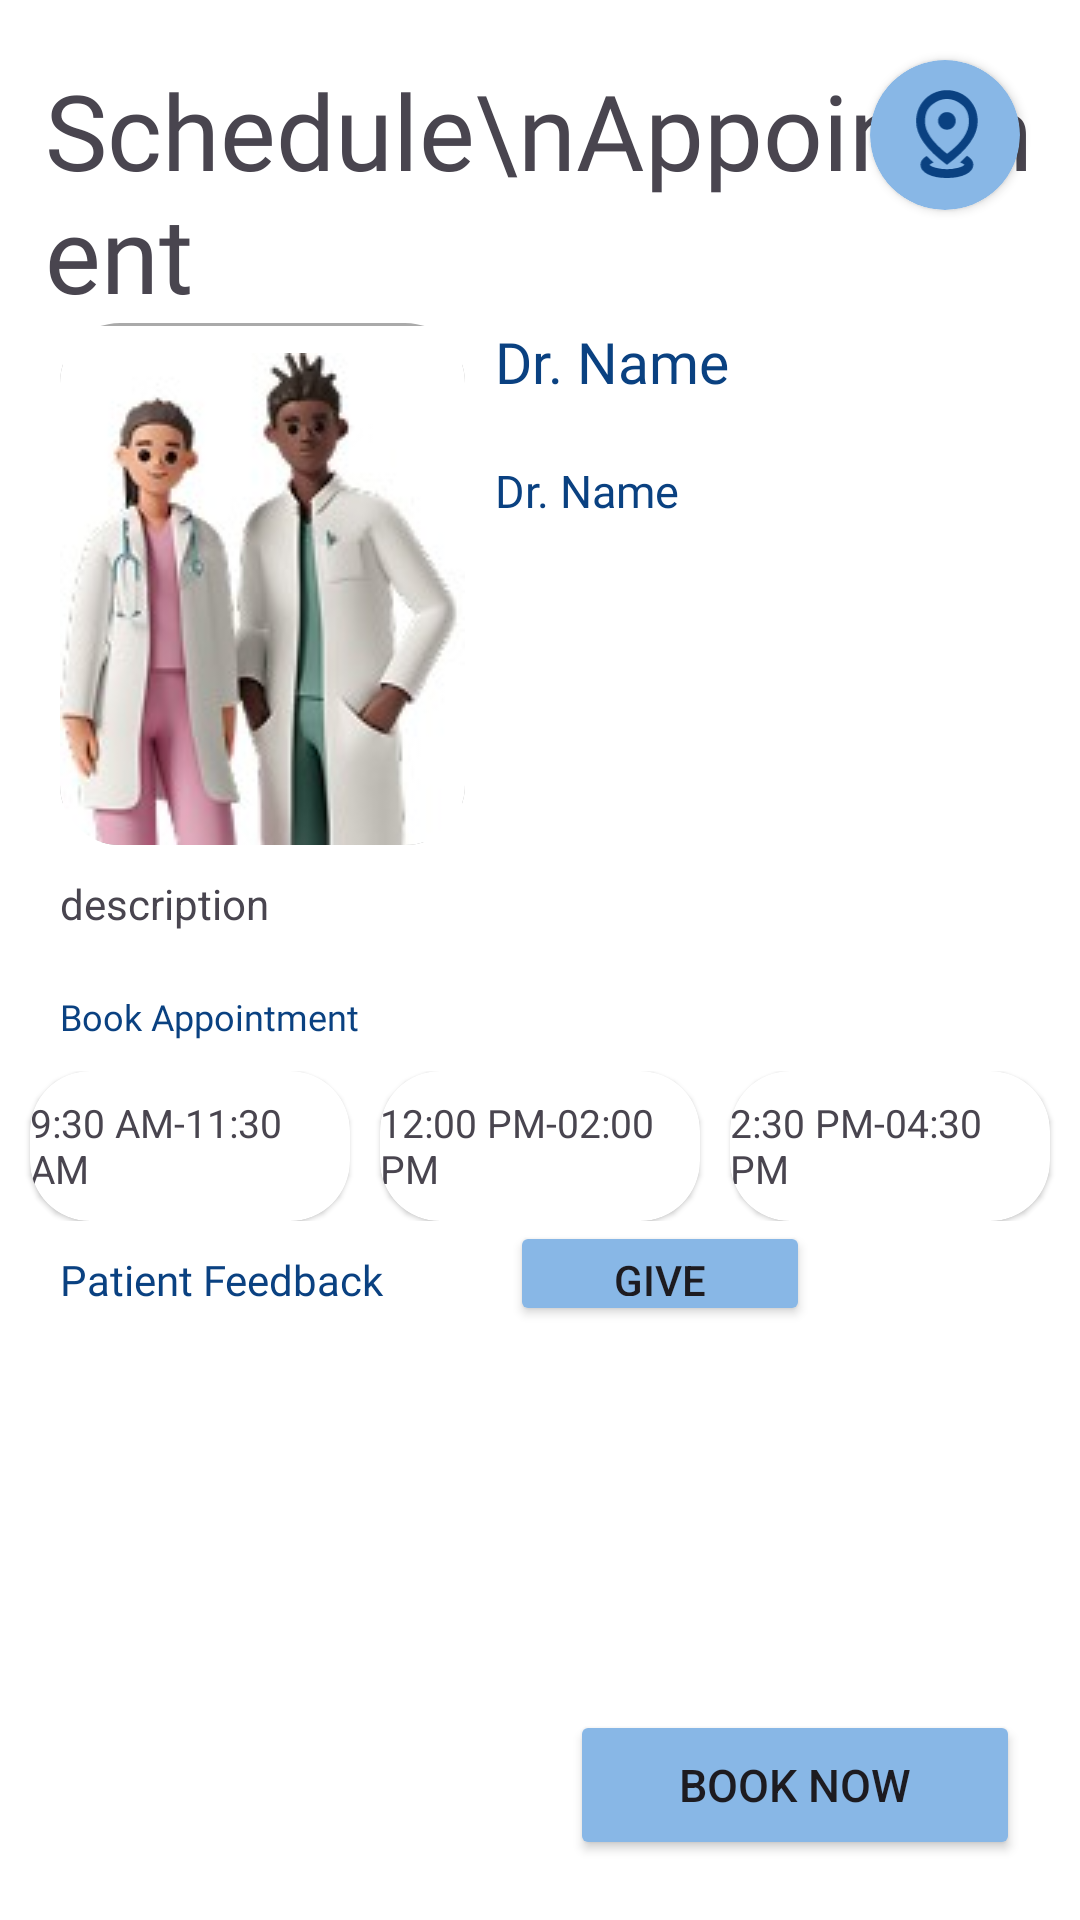

Point at icon controls on the screen. Image size 1080x1920, points as (x,y).
distance: (945,135)
